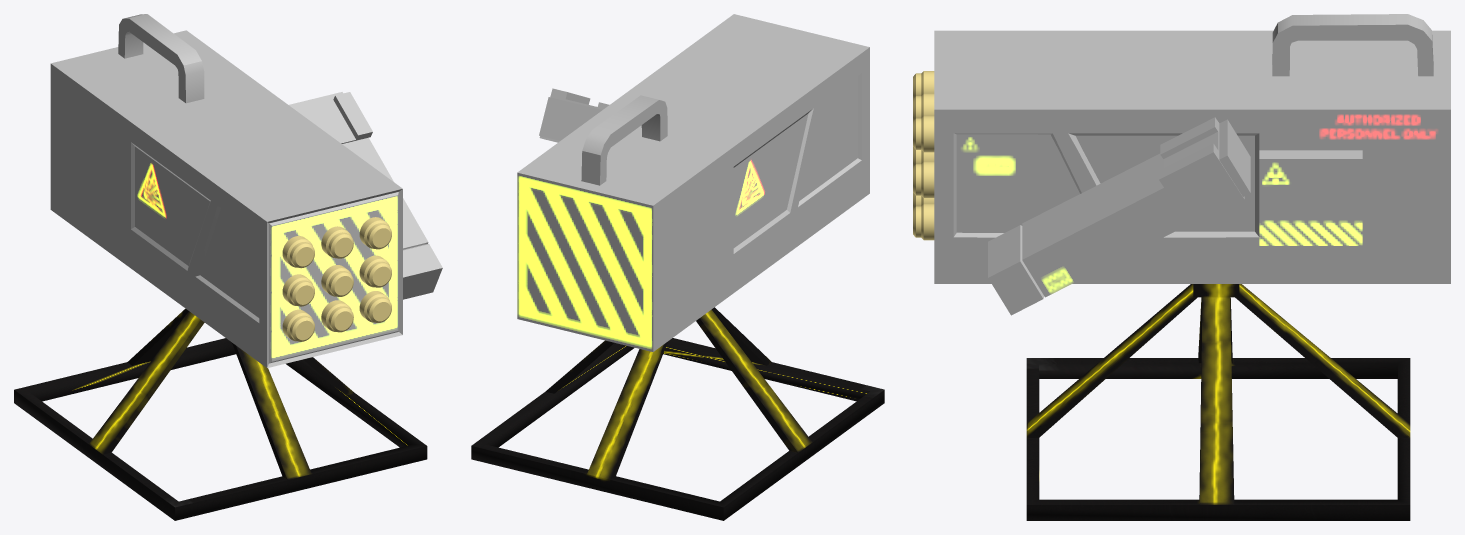
The model's file is ракетница не запак (2).fbx.
The picture shows the model from 3 angles, left to right: view 1: azimuth 30°, elevation 25°; view 2: azimuth 150°, elevation 25°; view 3: azimuth 270°, elevation 25°; orthographic projection. The views are drawn at different scales.
Parts seen in each view (by area): view 1: ракетница, ракетница.001; view 2: ракетница, ракетница.001; view 3: ракетница, ракетница.001.
Part boxes in pixels (left/top/right/bottom): ракетница: left=50, top=14, right=442, bottom=367; ракетница.001: left=14, top=308, right=427, bottom=520; ракетница: left=517, top=14, right=869, bottom=351; ракетница.001: left=471, top=307, right=884, bottom=520; ракетница: left=913, top=14, right=1450, bottom=315; ракетница.001: left=1026, top=284, right=1410, bottom=520.
Bounding box in the file's own units: 63.19 × 85.21 × 97.38.
